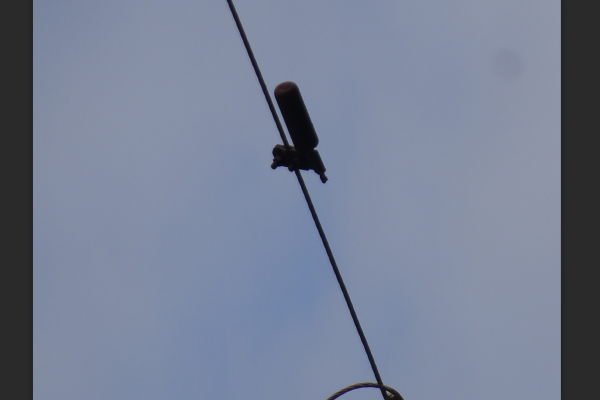damper_defect: (266, 77, 329, 186)
